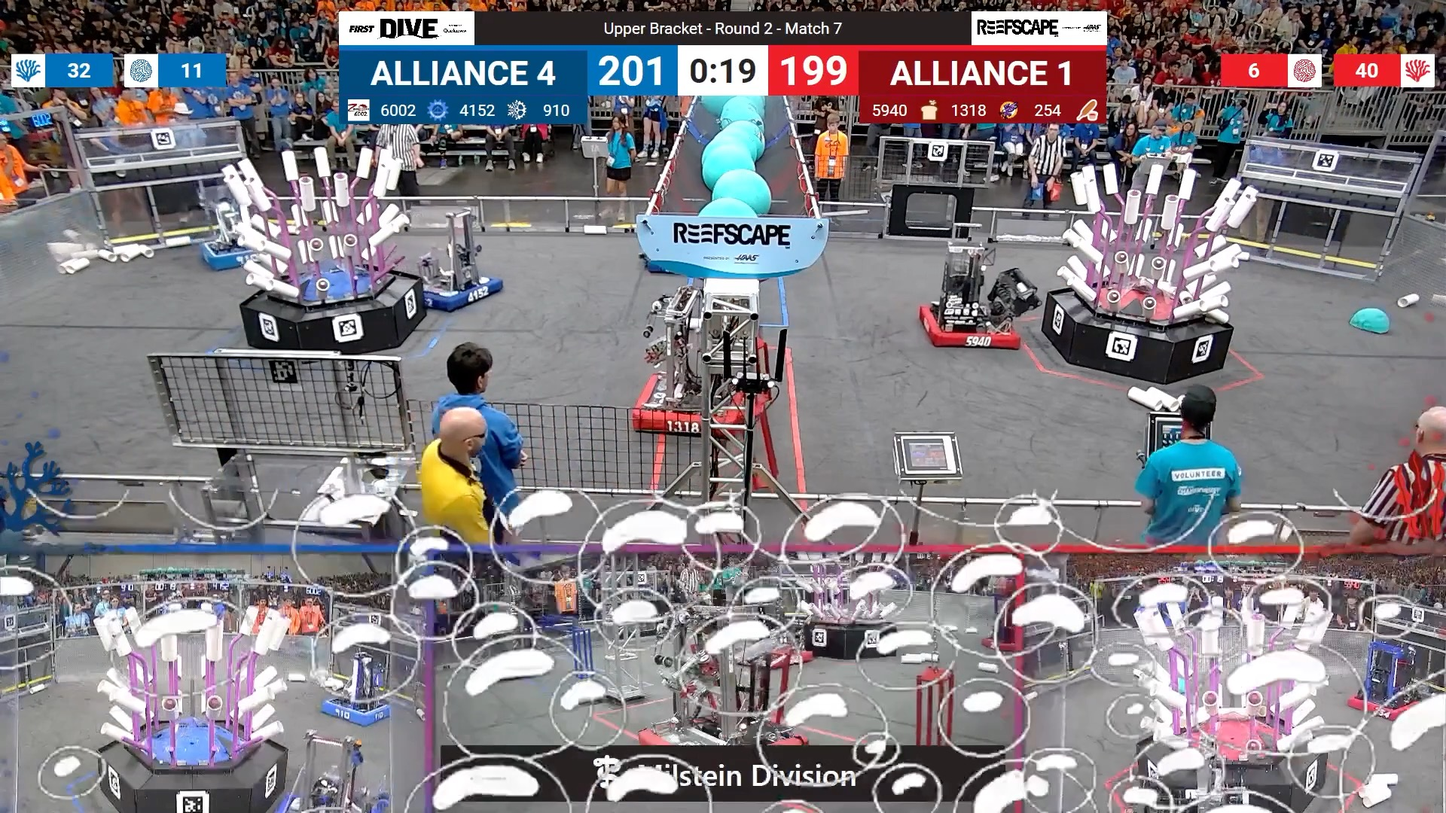bumpers: (627, 373, 753, 437), (912, 299, 1032, 358), (403, 266, 514, 316), (312, 694, 400, 731), (1340, 688, 1428, 724), (276, 790, 398, 813), (193, 241, 269, 276)
